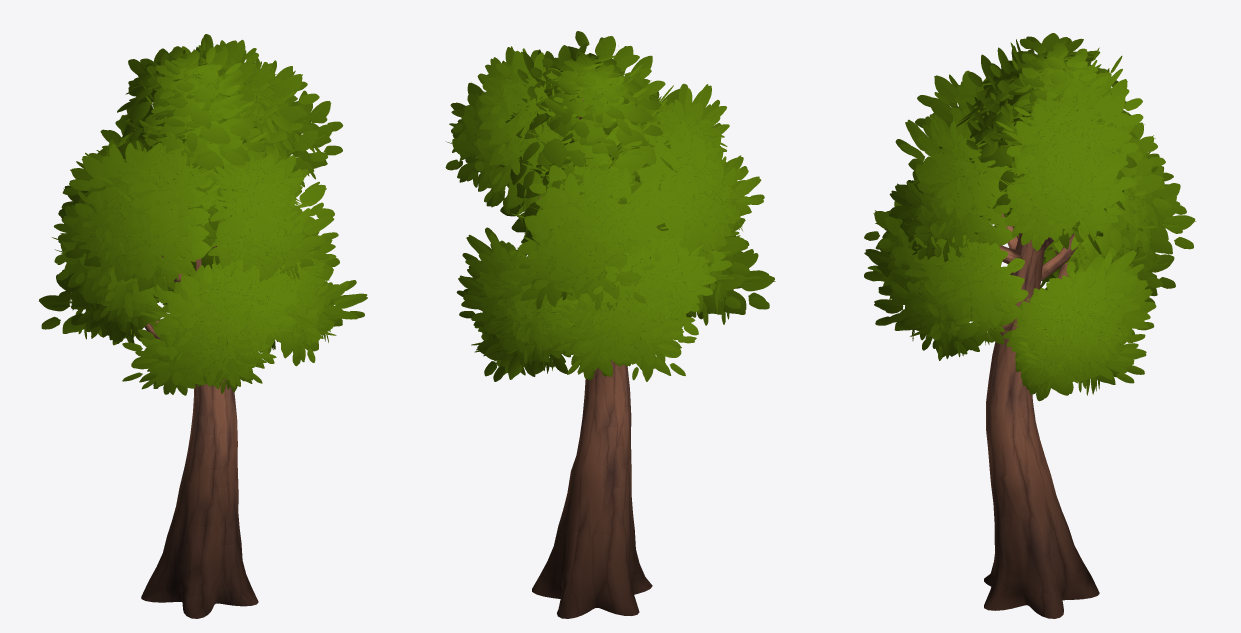
File: CommonTree_1.gltf
3 renders of one model, left to right at view 1: azimuth 30°, elevation 25°; view 2: azimuth 150°, elevation 25°; view 3: azimuth 270°, elevation 25°, orthographic. The views are drawn at different scales.
Visible parts, largest first — view 1: CommonTree_1; view 2: CommonTree_1; view 3: CommonTree_1.
Boxes of the visible parts, <box> form: CommonTree_1: <box>39,34,367,618</box>; CommonTree_1: <box>445,31,775,618</box>; CommonTree_1: <box>864,33,1196,618</box>.
Size of the model in its own units: 4.31 by 7.26 by 4.58.
Materials: 2 (2 with a texture image).
